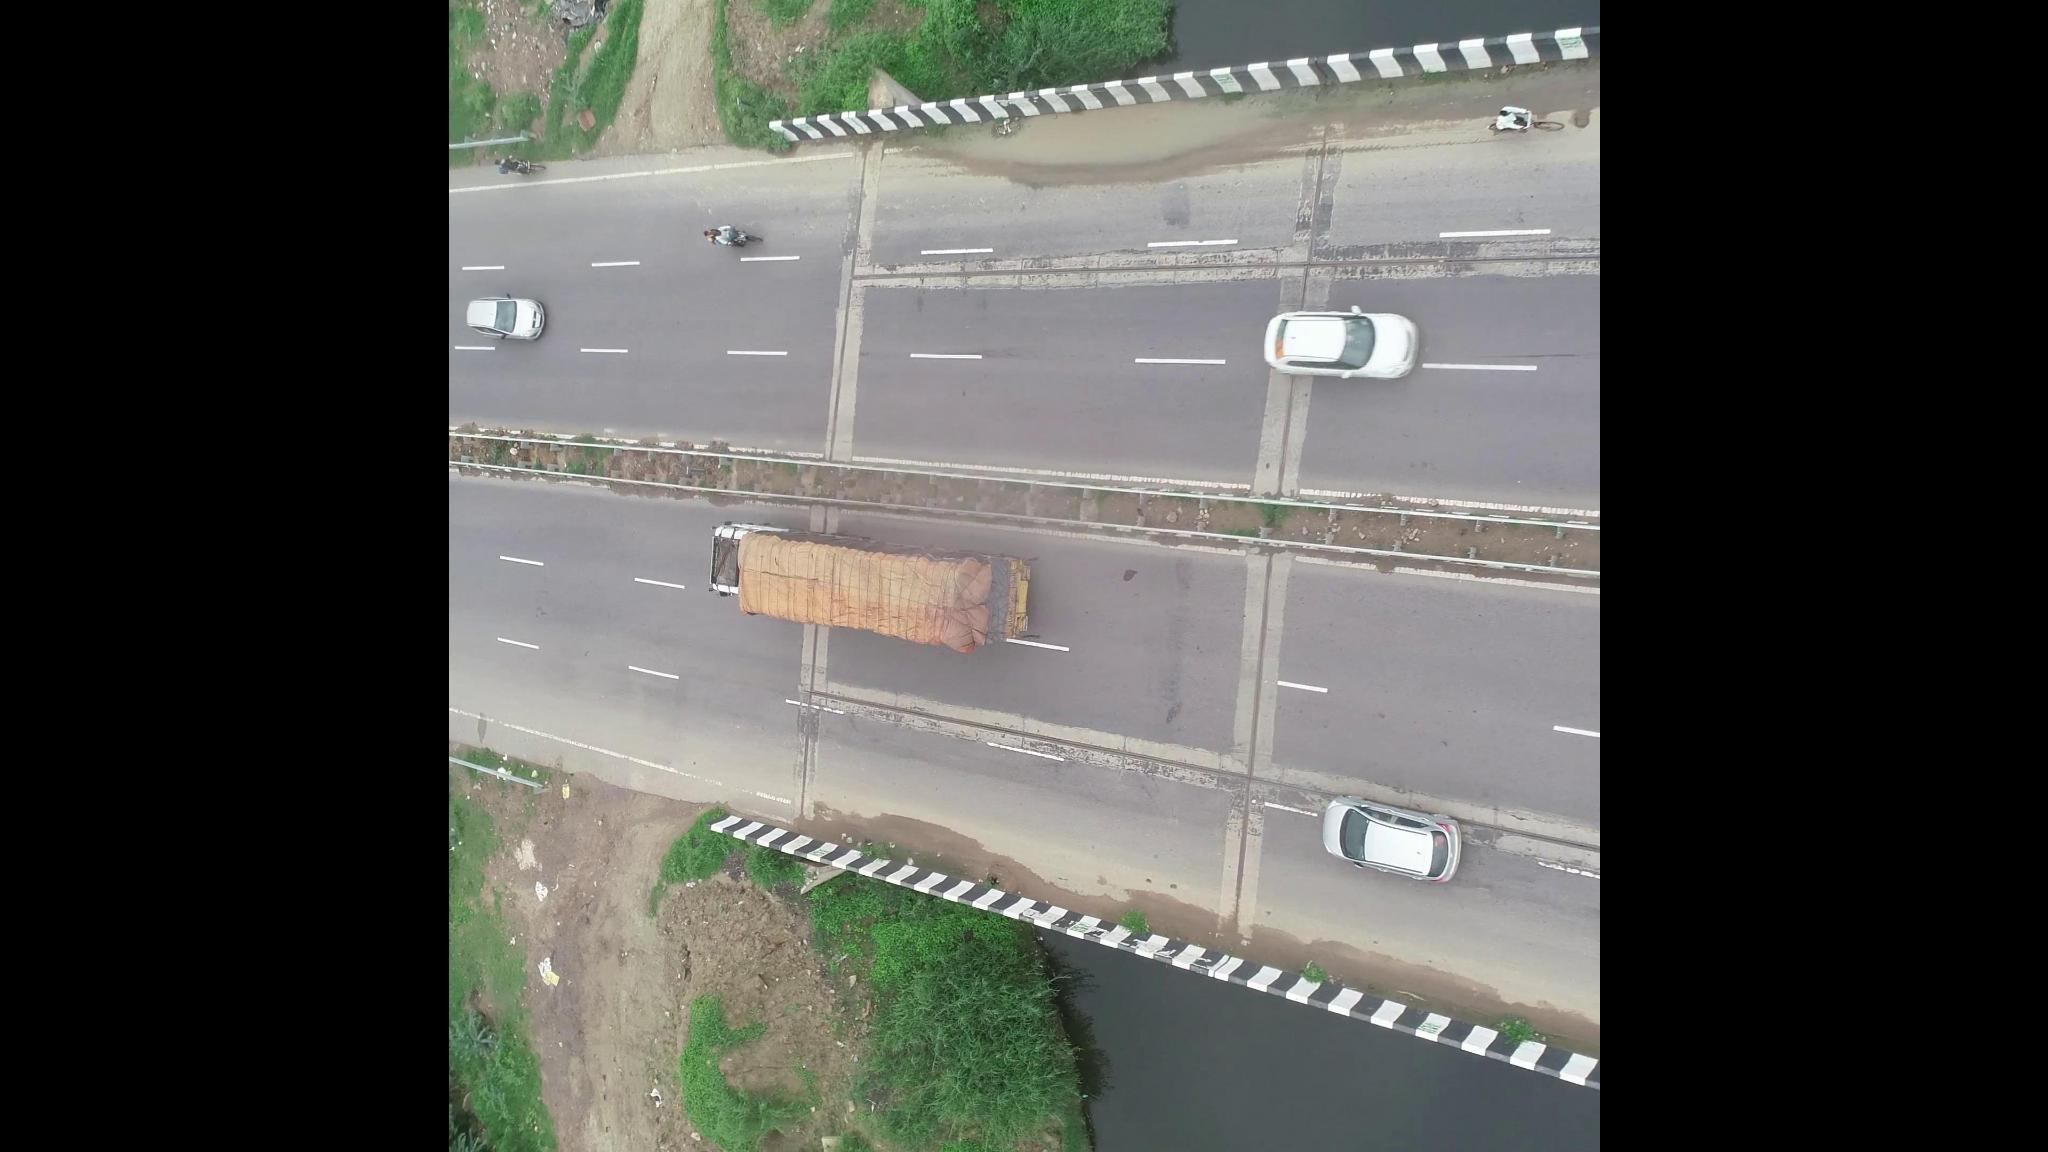Waterlogging: (933, 108, 1277, 205)
